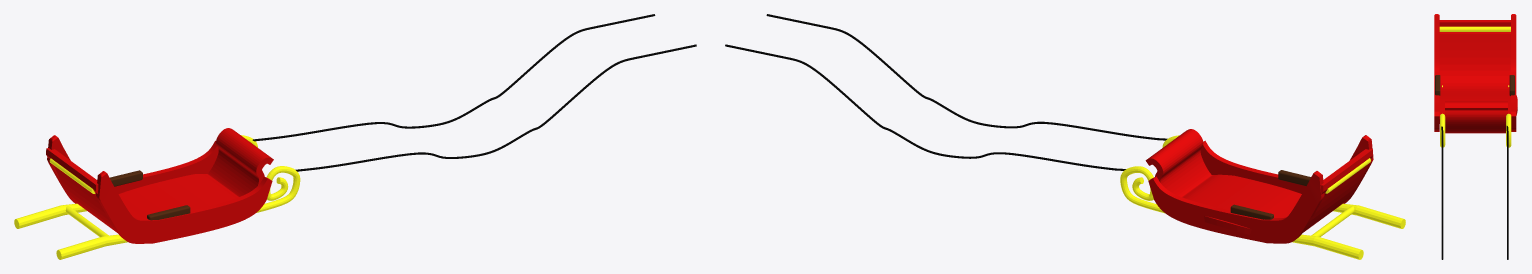
The model's file is SantaRideMaterials.fbx.
3 renders of one model, left to right at view 1: azimuth 30°, elevation 25°; view 2: azimuth 150°, elevation 25°; view 3: azimuth 270°, elevation 25°, orthographic. The views are drawn at different scales.
Parts seen in each view (by area): view 1: pCube2, pCube3, pCube4, pCylinder1, pCylinder8, pCylinder7, pCylinder2; view 2: pCube2, pCube4, pCube3, pCylinder2, pCylinder7, pCylinder8, pCylinder1; view 3: pCube2, pCube4, pCube3, pCylinder9, pCylinder7, pCylinder8, pCylinder1, pCylinder2, pCube5, pCube6.
Boxes of the visible parts, <box> form: pCube2: <box>46,128,273,232</box>; pCube3: <box>96,171,272,243</box>; pCube4: <box>47,135,218,203</box>; pCylinder1: <box>56,166,300,259</box>; pCylinder8: <box>252,14,655,141</box>; pCylinder7: <box>295,44,696,171</box>; pCylinder2: <box>14,135,257,228</box>; pCube2: <box>1145,129,1373,234</box>; pCube4: <box>1148,171,1324,243</box>; pCube3: <box>1200,135,1373,203</box>; pCylinder2: <box>1120,166,1363,259</box>; pCylinder7: <box>766,14,1167,140</box>; pCylinder8: <box>725,44,1125,170</box>; pCylinder1: <box>1162,135,1405,228</box>; pCube2: <box>1439,20,1517,133</box>; pCube4: <box>1511,14,1516,131</box>; pCube3: <box>1434,14,1439,131</box>; pCylinder9: <box>1439,26,1510,31</box>; pCylinder7: <box>1441,126,1443,259</box>; pCylinder8: <box>1506,126,1508,259</box>; pCylinder1: <box>1440,85,1445,147</box>; pCylinder2: <box>1506,85,1511,147</box>; pCube5: <box>1435,75,1440,95</box>; pCube6: <box>1509,75,1514,95</box>.
Bounding box in the file's own units: 108 × 13.57 × 15.67.
